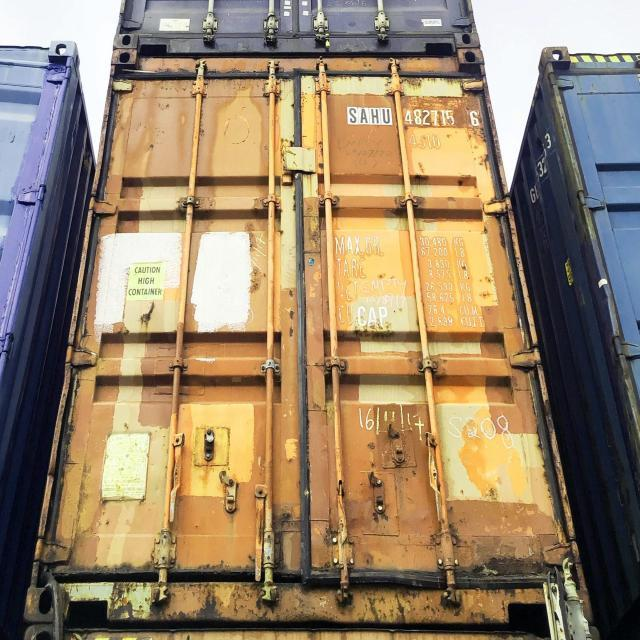container_number: (348, 107, 484, 126)
